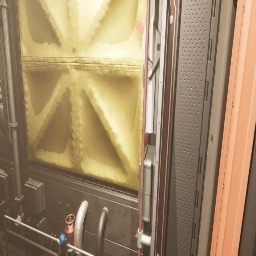NitrogenTank ,: (64, 214, 75, 256)
SafetySwitchPanel ,: (135, 0, 162, 135)
